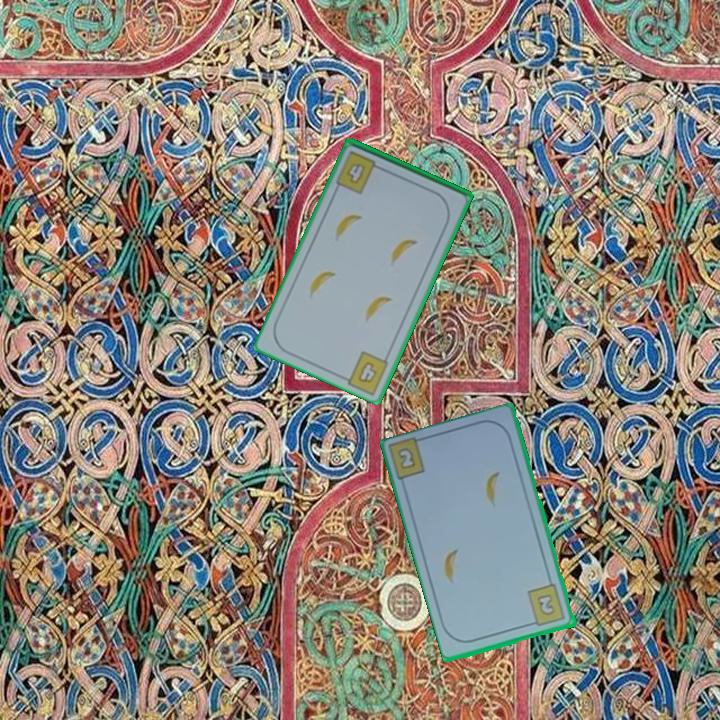2b: (524, 581, 568, 629), (394, 444, 419, 473)
4b: (332, 147, 386, 197), (354, 358, 380, 387)
